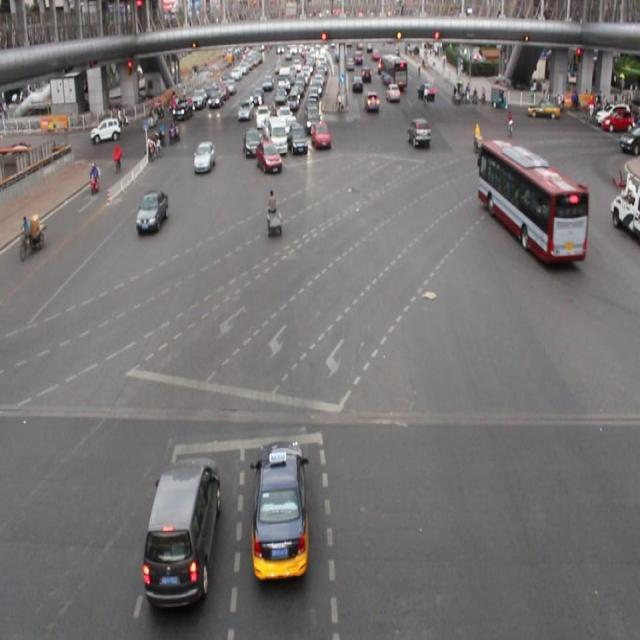BigCar: (480, 135, 592, 283), (382, 54, 410, 92)
car: (146, 453, 221, 605), (249, 446, 309, 582), (136, 183, 171, 237), (409, 110, 436, 154), (192, 136, 216, 175), (90, 118, 124, 142), (258, 146, 281, 178), (602, 108, 633, 130), (172, 97, 193, 126), (241, 127, 262, 155), (266, 124, 288, 150), (288, 125, 306, 156), (237, 96, 254, 128), (620, 130, 636, 159), (314, 126, 333, 150), (417, 82, 437, 102), (365, 90, 379, 115), (387, 82, 400, 108), (211, 93, 225, 116), (352, 69, 363, 95), (363, 62, 375, 82)
